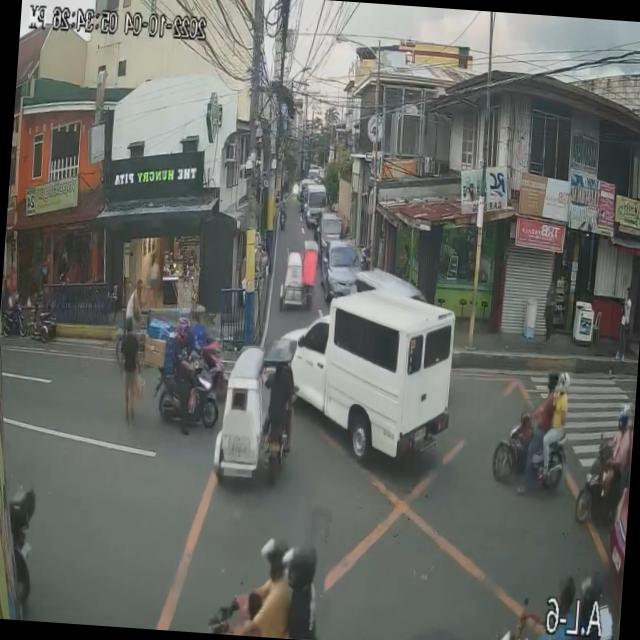full: (281, 544, 319, 594), (546, 369, 559, 390)
half: (260, 538, 292, 584), (176, 314, 192, 342), (558, 368, 572, 396), (194, 302, 208, 324)
